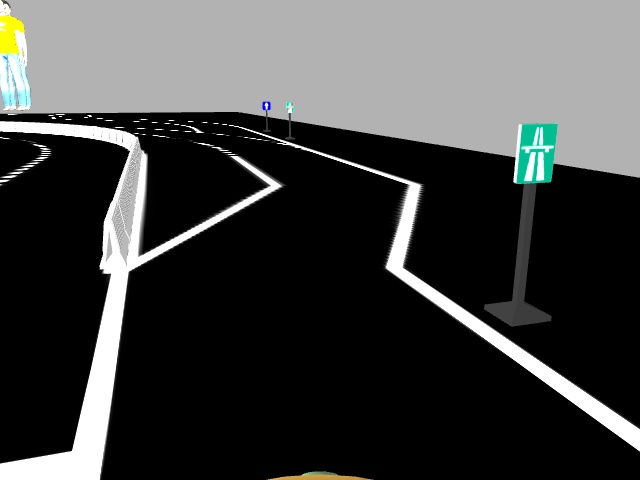HighwayEntrance: (518, 125, 551, 183)
HighwayExit: (285, 102, 293, 113)
OneWay: (261, 101, 269, 110)
